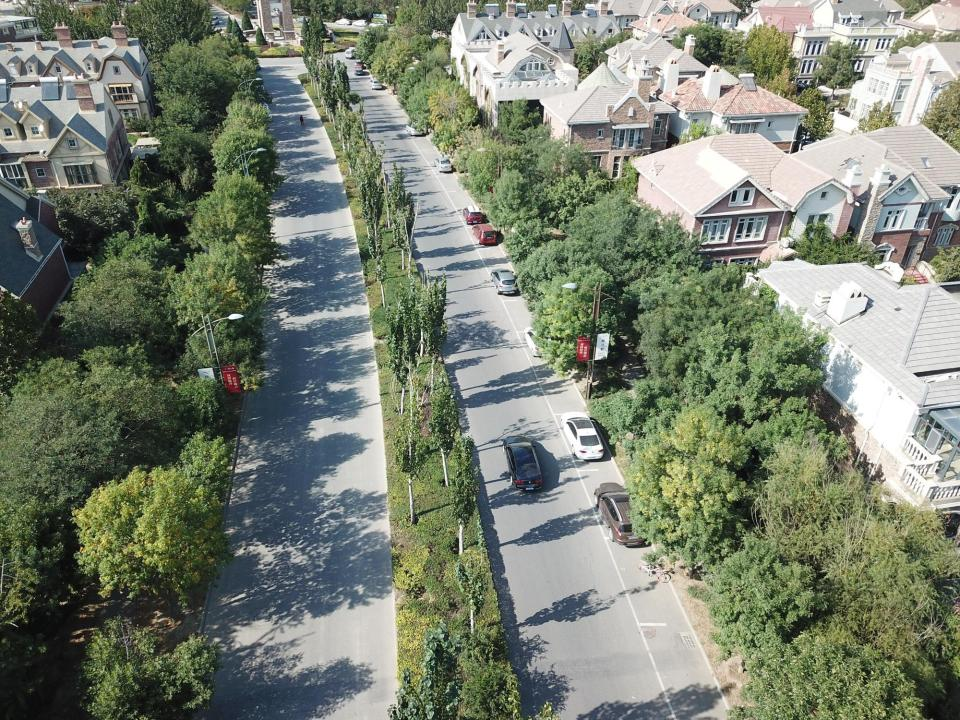car: (594, 483, 649, 546), (502, 435, 542, 491), (560, 412, 604, 459), (523, 326, 553, 356), (490, 268, 518, 294), (472, 224, 496, 243), (464, 206, 483, 224), (255, 107, 272, 123), (434, 157, 452, 172), (252, 95, 268, 109), (405, 123, 423, 135), (369, 79, 382, 89), (335, 18, 352, 25), (352, 20, 368, 27), (207, 16, 219, 25), (353, 66, 363, 76), (296, 16, 312, 22), (368, 22, 387, 27), (273, 9, 282, 15)
van: (344, 48, 356, 58)
